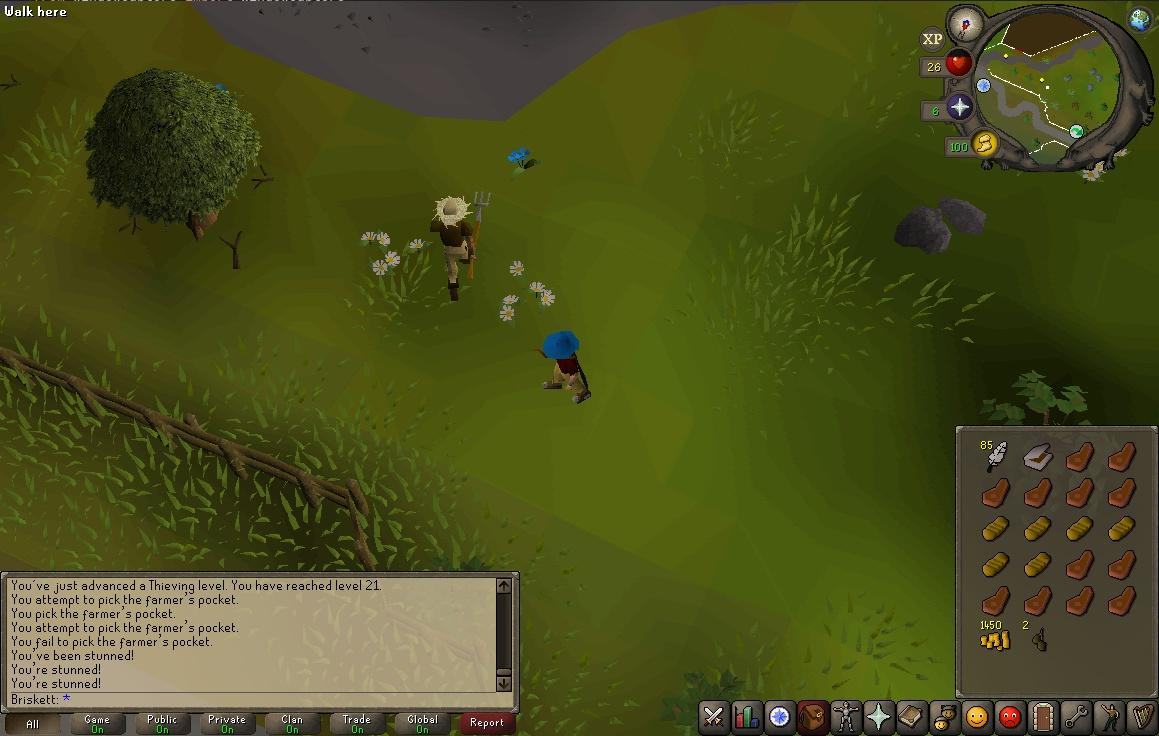Farmer: (429, 196, 477, 302)
